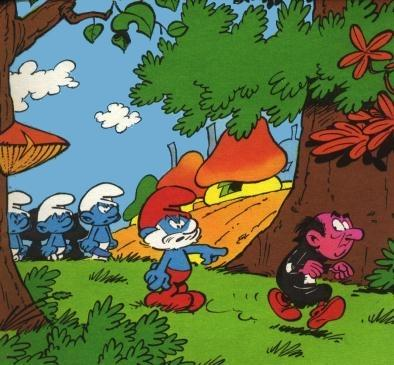smurf: (135, 184, 230, 312), (78, 182, 124, 262), (37, 193, 75, 263), (3, 188, 32, 261)
